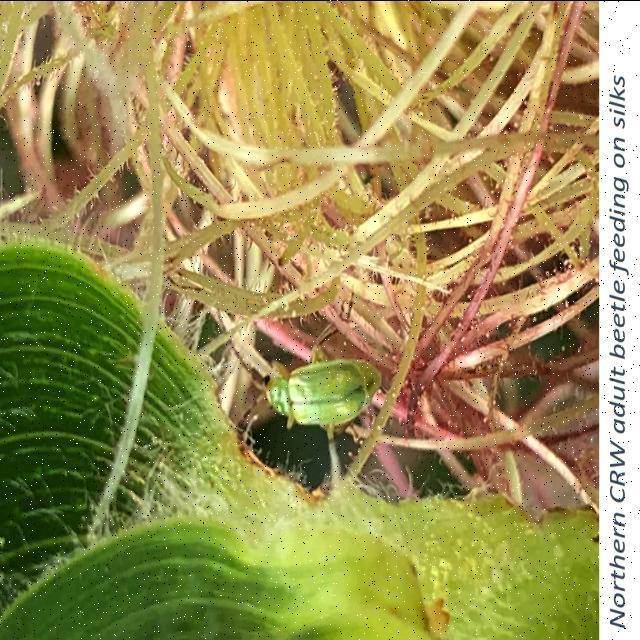gusano_gris: (223, 293, 375, 447)
